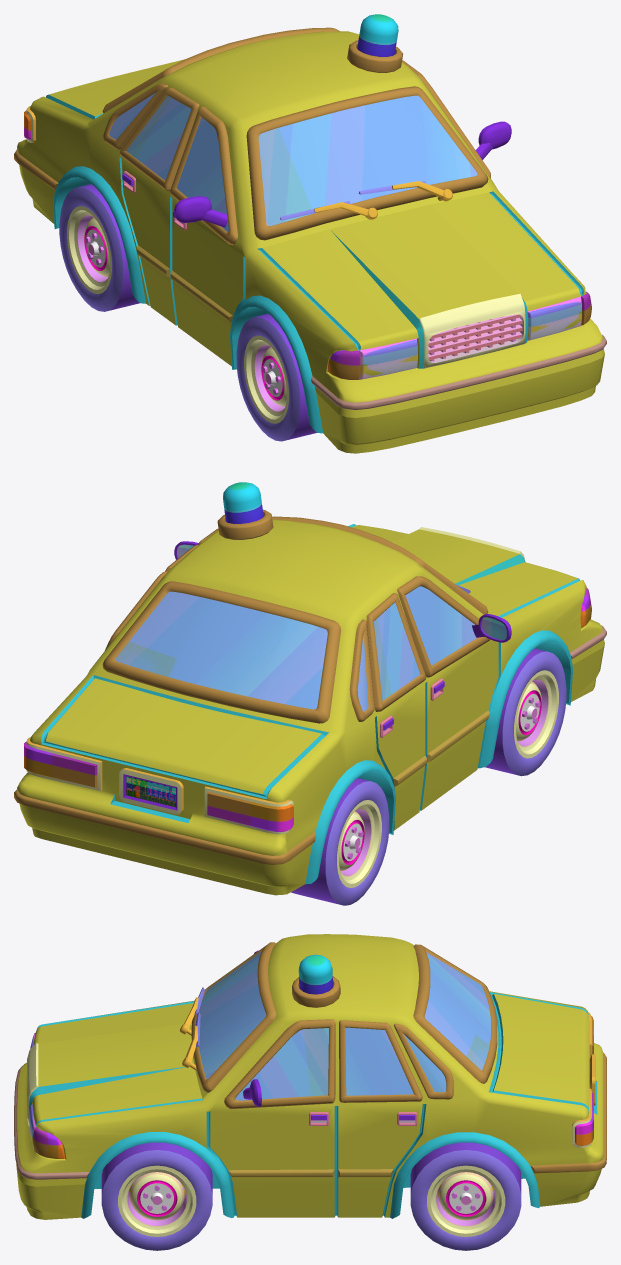
File: DetectiveCar_GRP.fbx
3 views of the same model, one above another, from view 1: azimuth 30°, elevation 25°; view 2: azimuth 150°, elevation 25°; view 3: azimuth 270°, elevation 25° (orthographic). The views are drawn at different scales.
Visible parts, largest first — view 1: DetectiveCar_mesh, DetectiveCar_Wheel_FR_mesh, DetectiveCar_Wheel_BR_mesh; view 2: DetectiveCar_mesh, DetectiveCar_Wheel_BR_mesh, DetectiveCar_Wheel_FR_mesh; view 3: DetectiveCar_mesh, DetectiveCar_Wheel_BL_mesh, DetectiveCar_Wheel_FL_mesh.
Boxes of the visible parts, bbox=[...] form: DetectiveCar_mesh: bbox=[14, 14, 606, 453]; DetectiveCar_Wheel_FR_mesh: bbox=[236, 313, 316, 441]; DetectiveCar_Wheel_BR_mesh: bbox=[59, 184, 139, 311]; DetectiveCar_mesh: bbox=[14, 482, 606, 895]; DetectiveCar_Wheel_BR_mesh: bbox=[291, 778, 389, 905]; DetectiveCar_Wheel_FR_mesh: bbox=[485, 648, 566, 776]; DetectiveCar_mesh: bbox=[14, 934, 606, 1219]; DetectiveCar_Wheel_BL_mesh: bbox=[410, 1142, 521, 1250]; DetectiveCar_Wheel_FL_mesh: bbox=[101, 1142, 212, 1250].
Size of the model in its own units: 1.56 by 1.35 by 2.74.
